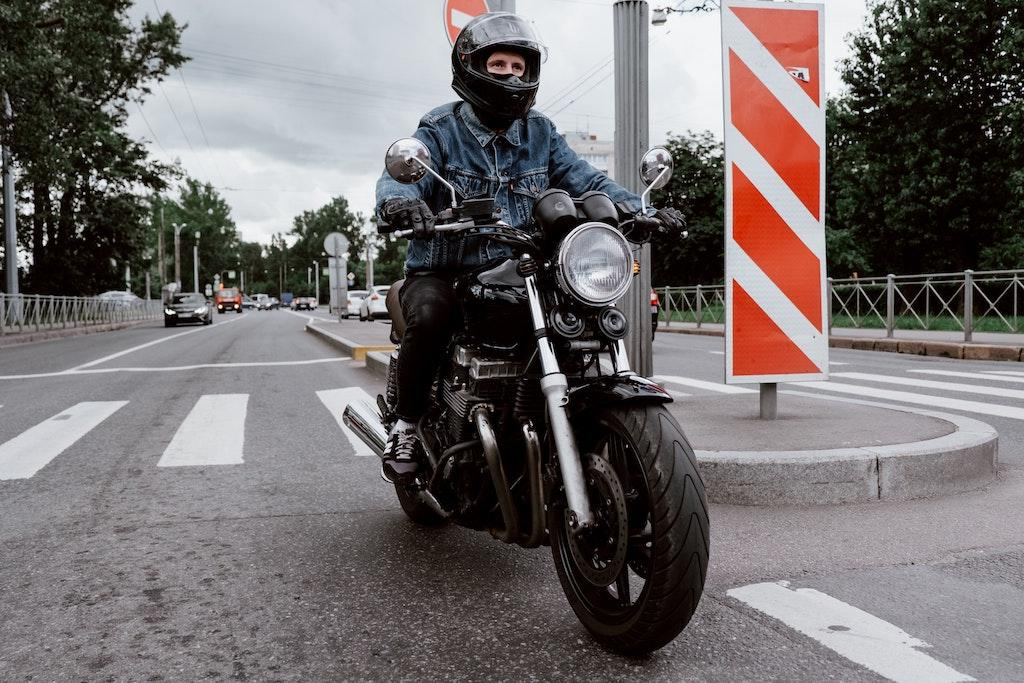helmet: (450, 10, 552, 122)
